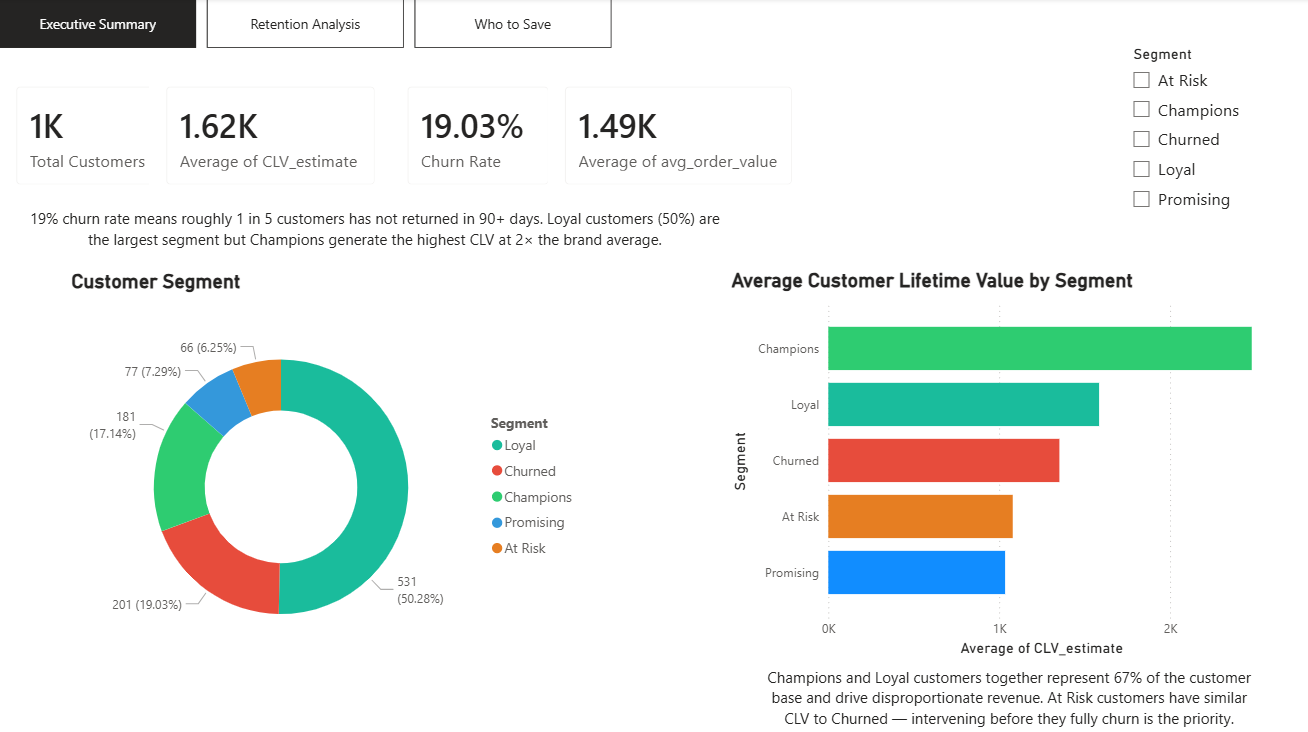

Layout of this report page (visuals, bound fields, positions):
{"tool":"powerbi","page":{"name":"Executive Summary","canvas":[1280,720],"ordinal":0},"visuals":[{"type":"cardVisual","fields":{"Data":["customer_analytics.Total Customers"]},"box":[0,70,179.8,130.4],"z":0},{"type":"cardVisual","fields":{"Data":["customer_analytics.Churn Rate"]},"box":[382.8,70,172.9,130.4],"z":1},{"type":"cardVisual","fields":{"Data":["Avg(customer_analytics.CLV_estimate)"]},"box":[146.8,70,238.8,130.4],"z":2},{"type":"cardVisual","fields":{"Data":["Avg(customer_analytics.avg_order_value)"]},"box":[536.5,70,256.6,130.4],"z":3},{"type":"donutChart","title":"Customer Segment","fields":{"Category":["customer_analytics.Segment"],"Y":["CountNonNull(customer_analytics.customer_id)"]},"box":[65.9,266.2,509.1,402.1],"z":4},{"type":"clusteredBarChart","title":"Average Customer Lifetime Value by Segment","fields":{"Category":["customer_analytics.Segment"],"Y":["Avg(customer_analytics.CLV_estimate)"]},"box":[712.2,264.8,529.7,384.2],"z":5},{"type":"slicer","fields":{"Values":["customer_analytics.Segment"]},"box":[1096.4,41.2,183.9,189.4],"z":6},{"type":"textbox","box":[745.1,649.1,487.1,71.4],"z":7},{"type":"textbox","box":[23.3,200.3,688.9,53.5],"z":8},{"type":"pageNavigator","box":[0,0,599.7,49.4],"z":9}]}

Visuals, with their boxes in screenshot pixels (x1, y1, x2, y2), scaled from the page's 1280x720 canvas onto the 1308x732 screenshot:
cardVisual - customer_analytics.Total Customers: 0, 71, 184, 204
cardVisual - customer_analytics.Churn Rate: 391, 71, 568, 204
cardVisual - Avg(customer_analytics.CLV_estimate): 150, 71, 394, 204
cardVisual - Avg(customer_analytics.avg_order_value): 548, 71, 810, 204
"Customer Segment" donutChart: 67, 271, 588, 679
"Average Customer Lifetime Value by Segment" clusteredBarChart: 728, 269, 1269, 660
slicer - customer_analytics.Segment: 1120, 42, 1307, 234
textbox: 761, 660, 1259, 731
textbox: 24, 204, 728, 258
pageNavigator: 0, 0, 613, 50
